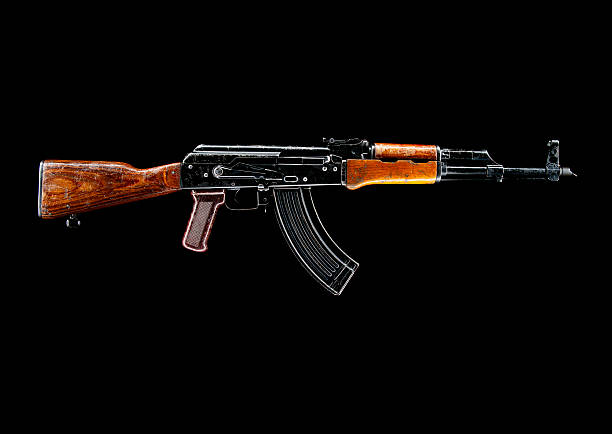rifle: (31, 105, 591, 325)
